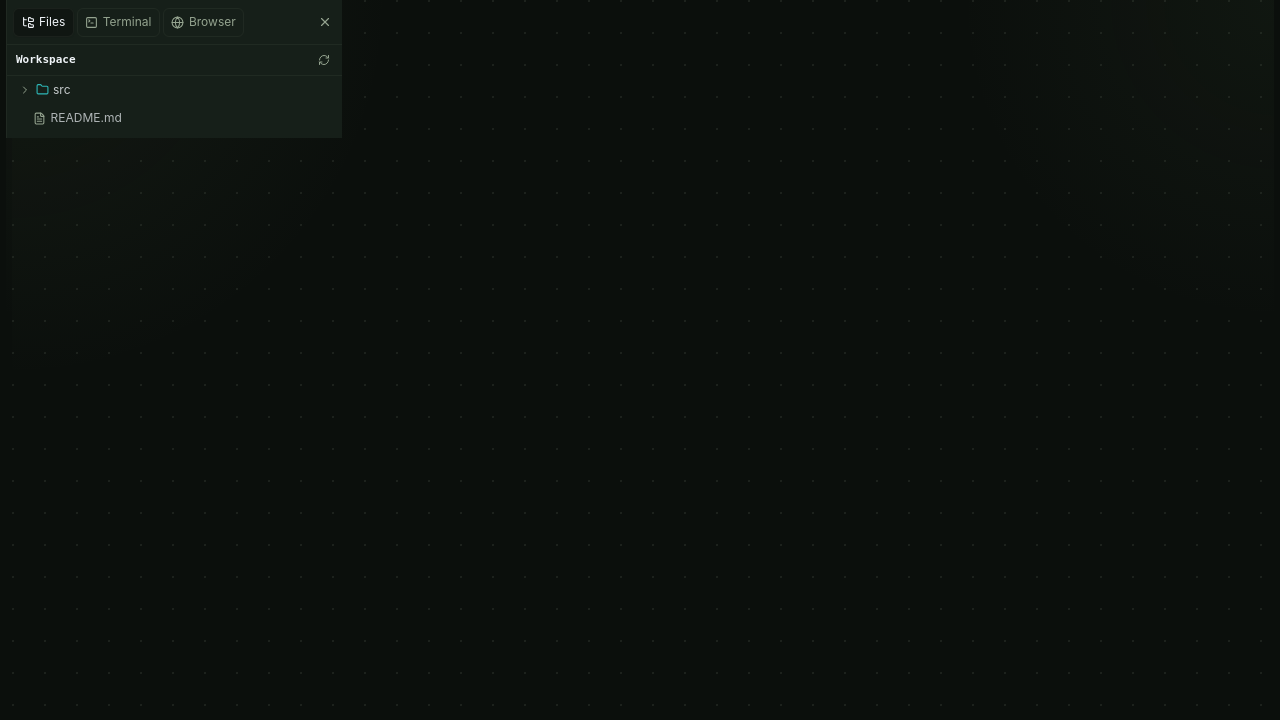
Test case: DeepSpaceSidePanel › lists the workspace files and shows the content of a clicked file
The width and height of the screenshot is (1280, 720).
Expected: the button "src" is shown, [13,76,336,103]
Click the button "README.md". click: click(86, 118)
box: [13,104,336,132]
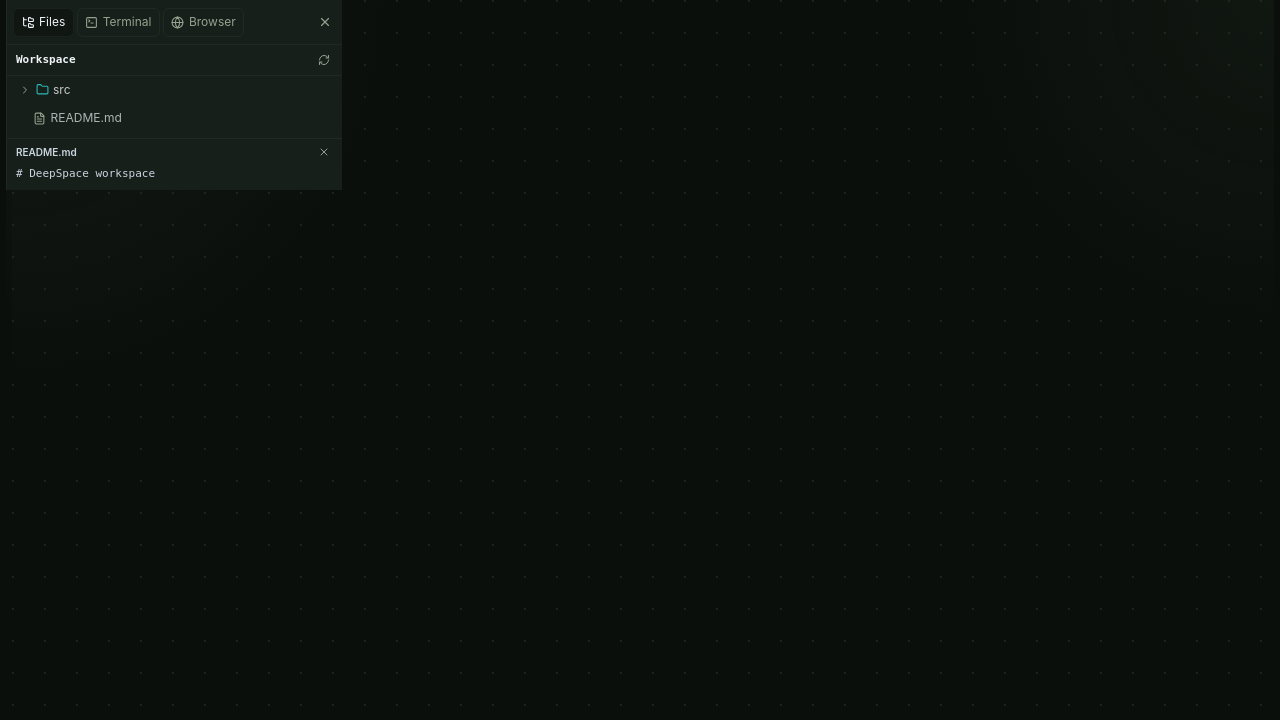
Expected: the text "# DeepSpace workspace" is shown, [16,166,155,180]
